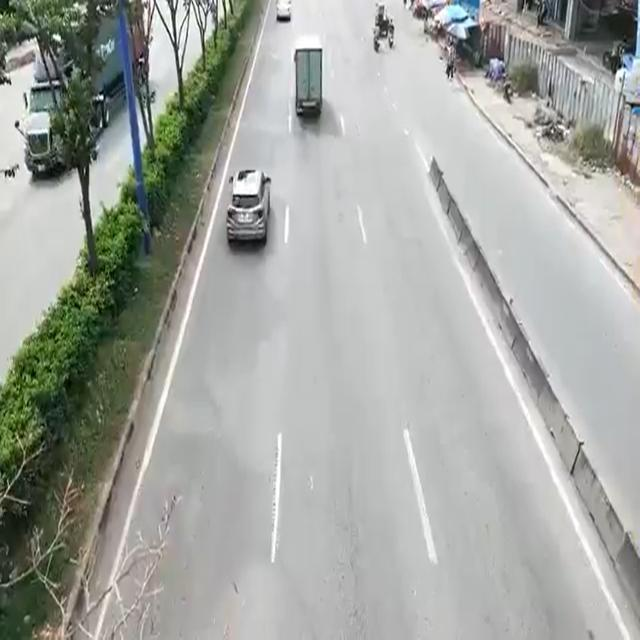car: (229, 164, 269, 244)
truck: (291, 32, 330, 118)
